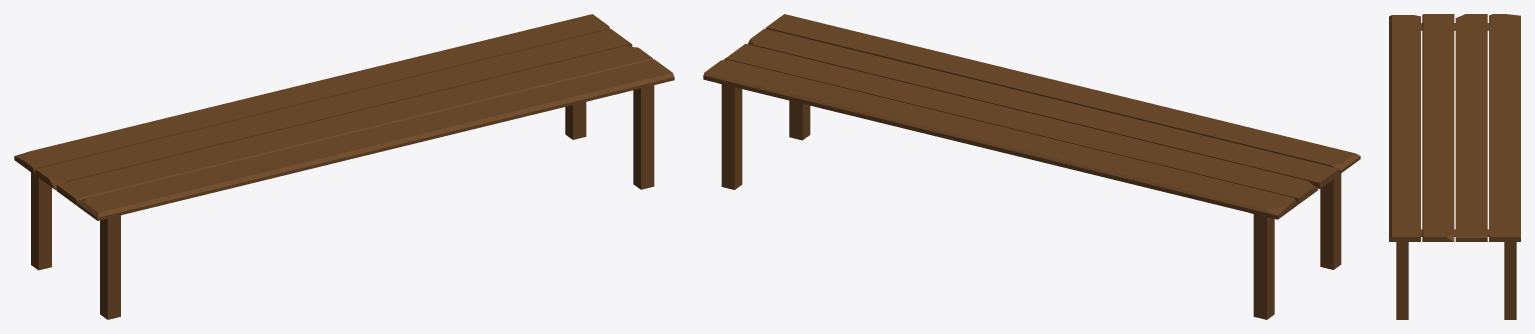
Rendered from table_1.fbx.
3 views of the same model, side by side, from view 1: azimuth 30°, elevation 25°; view 2: azimuth 150°, elevation 25°; view 3: azimuth 270°, elevation 25° (orthographic). The views are drawn at different scales.
Parts seen in each view (by area): view 1: Cube.033; view 2: Cube.033; view 3: Cube.033.
Boxes of the visible parts, x1,y1,x2,y2 form: Cube.033: (14, 14, 674, 319); Cube.033: (703, 14, 1360, 319); Cube.033: (1389, 14, 1520, 319).
Bounding box in the file's own units: 293 × 54.47 × 73.16.
